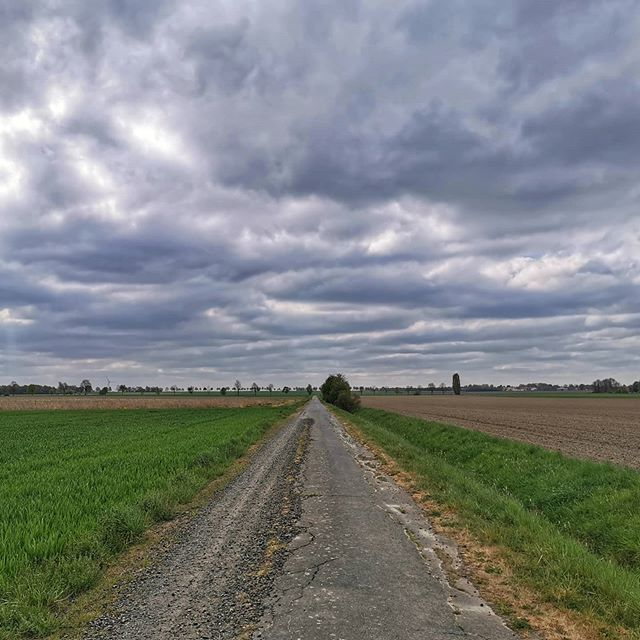grass: (349, 396, 640, 631), (1, 392, 270, 602)
road: (85, 396, 527, 640)
sky: (5, 1, 640, 379)
